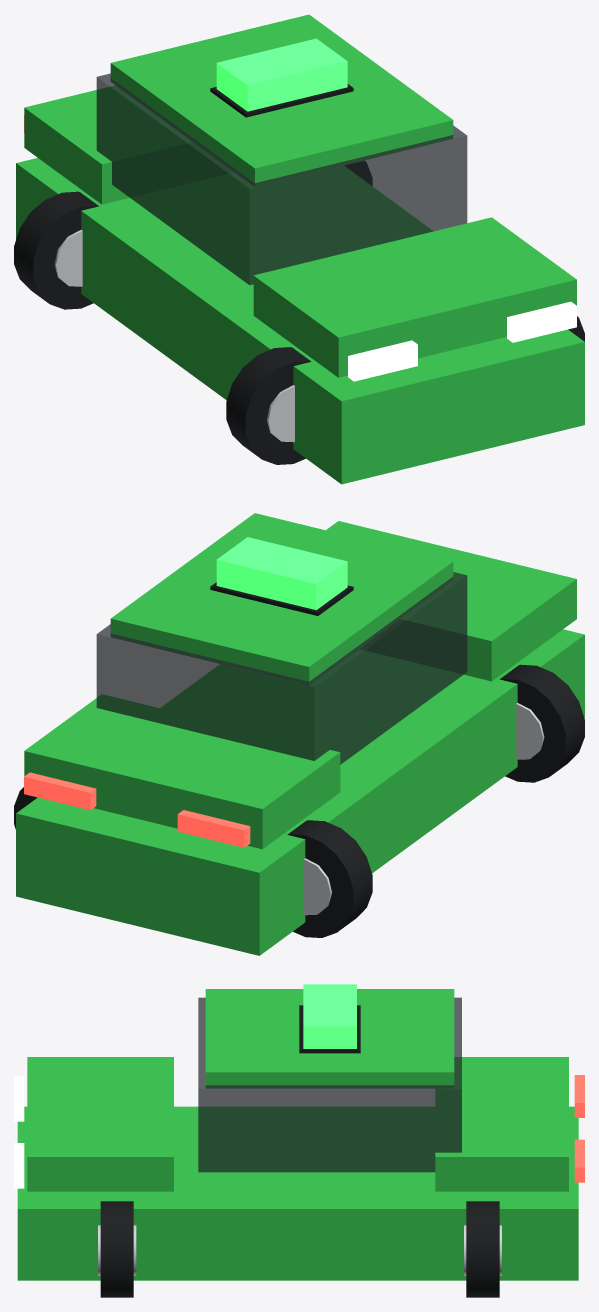
Rendered from car-request-fast.glb.
The picture shows the model from 3 angles, top to bottom: view 1: azimuth 30°, elevation 25°; view 2: azimuth 150°, elevation 25°; view 3: azimuth 270°, elevation 25°; orthographic projection. The views are drawn at different scales.
Visible parts, largest first — view 1: car-request-fast; view 2: car-request-fast; view 3: car-request-fast.
Boxes of the visible parts, x1,y1,x2,y2 form: car-request-fast: [14, 14, 584, 484]; car-request-fast: [14, 513, 584, 955]; car-request-fast: [14, 984, 584, 1297].
Bounding box in the file's own units: 2.65 × 2.05 × 4.48.
